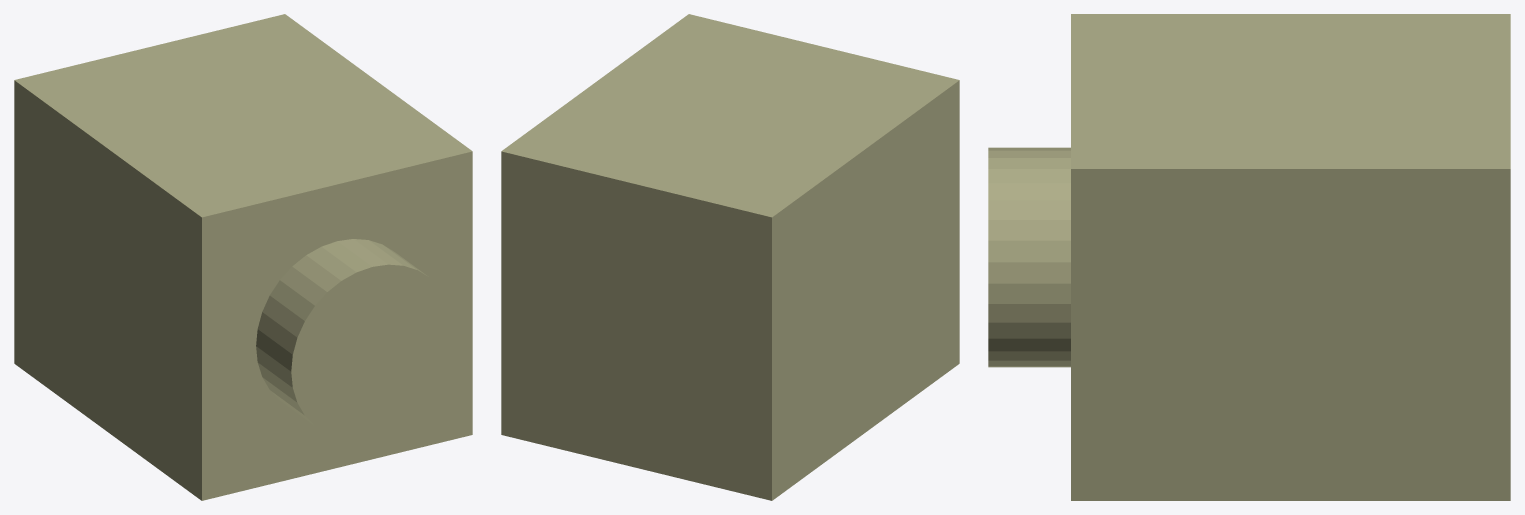
The model's file is brick_5.glb.
3 views of the same model, side by side, from view 1: azimuth 30°, elevation 25°; view 2: azimuth 150°, elevation 25°; view 3: azimuth 270°, elevation 25° (orthographic). The views are drawn at different scales.
Visible parts, largest first — view 1: world; view 2: world; view 3: world.
Part boxes in pixels (x1=…): world: x1=14, y1=14, x2=472, y2=500; world: x1=501, y1=14, x2=959, y2=500; world: x1=988, y1=14, x2=1510, y2=500.
Size of the model in its own units: 8 by 8 by 11.4.
